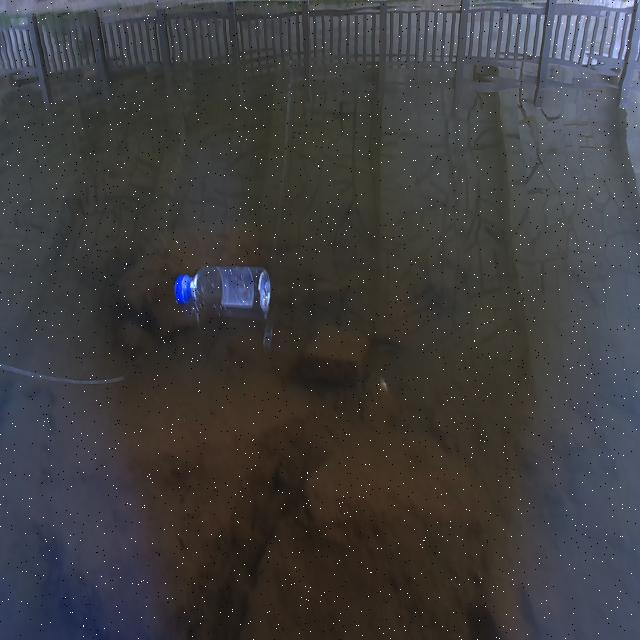Bottle: (171, 260, 271, 316)
